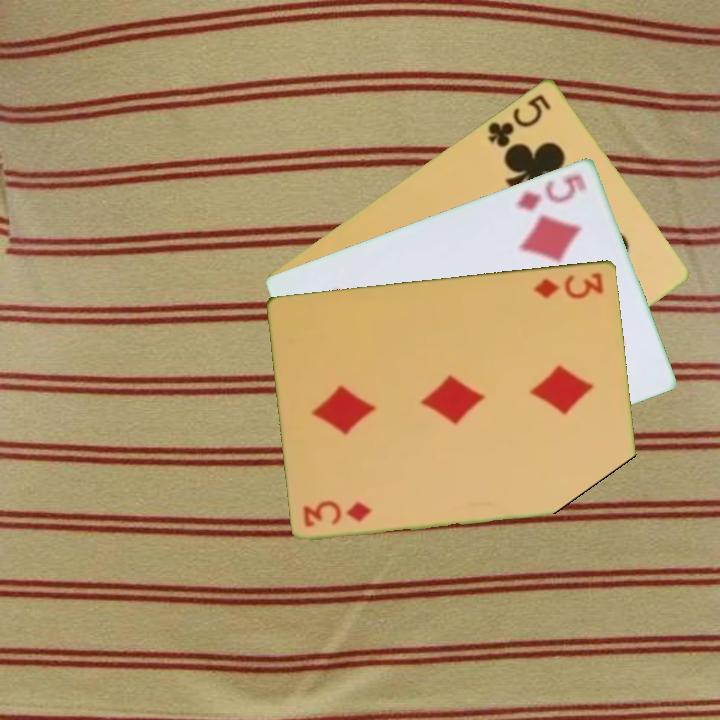3d: (530, 268, 607, 301), (300, 497, 376, 530)
5c: (484, 89, 554, 150)
5d: (513, 170, 590, 213)
